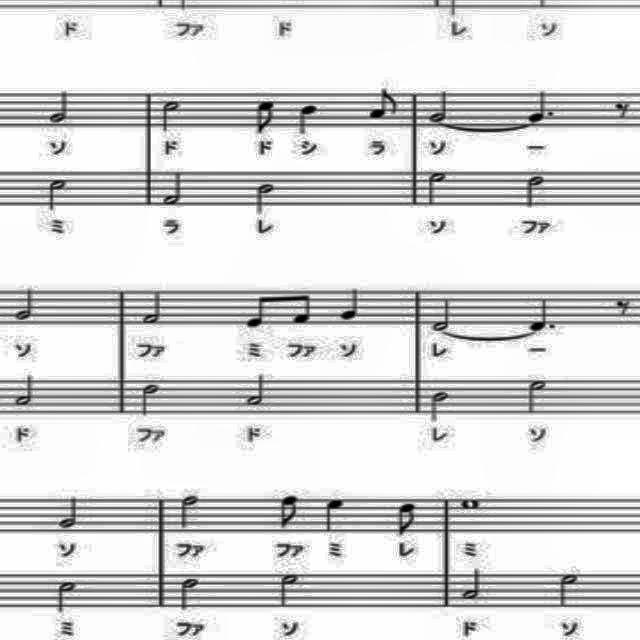Eighth-note: (361, 82, 404, 126), (243, 286, 279, 338), (270, 489, 306, 535), (284, 284, 316, 330), (249, 95, 281, 137), (391, 494, 421, 536)
Eighth-rest: (608, 290, 640, 320), (609, 92, 637, 124)
Full-note: (454, 493, 484, 515)
Half-note: (10, 278, 42, 329), (552, 569, 584, 617), (242, 372, 278, 412), (422, 168, 454, 212), (10, 370, 42, 414), (459, 561, 489, 607), (50, 576, 82, 618), (174, 570, 202, 618), (276, 566, 304, 614), (57, 489, 85, 536), (425, 384, 453, 430), (44, 84, 76, 124), (521, 166, 547, 214), (177, 488, 203, 536), (158, 166, 186, 210), (522, 374, 550, 418), (44, 172, 72, 215), (254, 177, 282, 220), (423, 86, 453, 126), (136, 379, 164, 421), (141, 286, 167, 330), (429, 294, 455, 336), (155, 98, 185, 134)
Quarter-dot: (520, 84, 560, 126), (527, 294, 561, 332)
Quarter-note: (290, 92, 322, 138), (337, 282, 367, 326), (322, 492, 350, 538)
